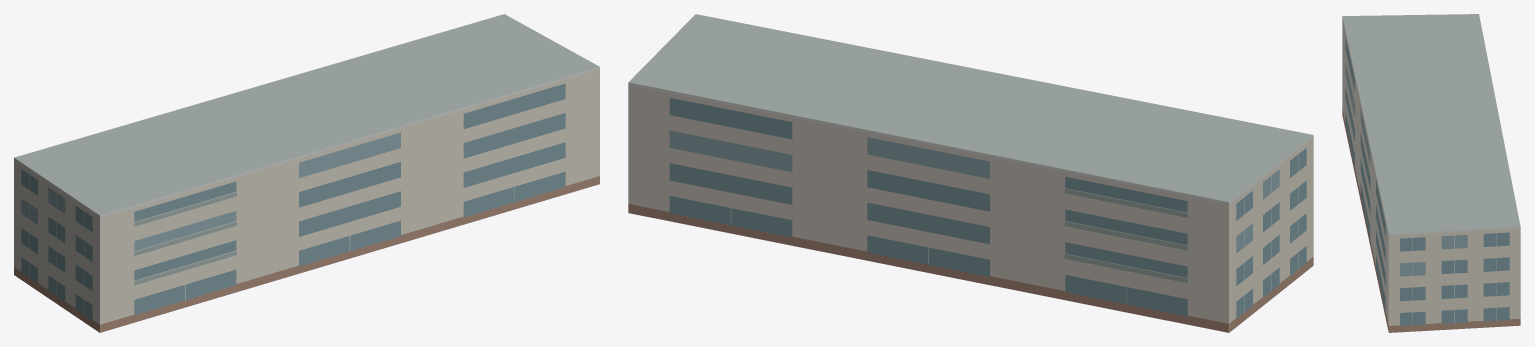
Rendered from residential-b23614a7-5ae5-43ad-9d9b-d5f945f0c852.glb.
3 views of the same model, side by side, from view 1: azimuth 30°, elevation 25°; view 2: azimuth 150°, elevation 25°; view 3: azimuth 270°, elevation 25° (orthographic). The views are drawn at different scales.
Visible parts, largest first — view 1: residential-b23614a7-5ae5-43ad-9d9b-d5f945f0c852.tmp; view 2: residential-b23614a7-5ae5-43ad-9d9b-d5f945f0c852.tmp; view 3: residential-b23614a7-5ae5-43ad-9d9b-d5f945f0c852.tmp.
Boxes of the visible parts, bbox=[...] form: residential-b23614a7-5ae5-43ad-9d9b-d5f945f0c852.tmp: bbox=[14, 14, 599, 332]; residential-b23614a7-5ae5-43ad-9d9b-d5f945f0c852.tmp: bbox=[628, 14, 1313, 332]; residential-b23614a7-5ae5-43ad-9d9b-d5f945f0c852.tmp: bbox=[1342, 14, 1520, 332].
Bounding box in the file's own units: 57.9 × 12.2 × 19.85.
